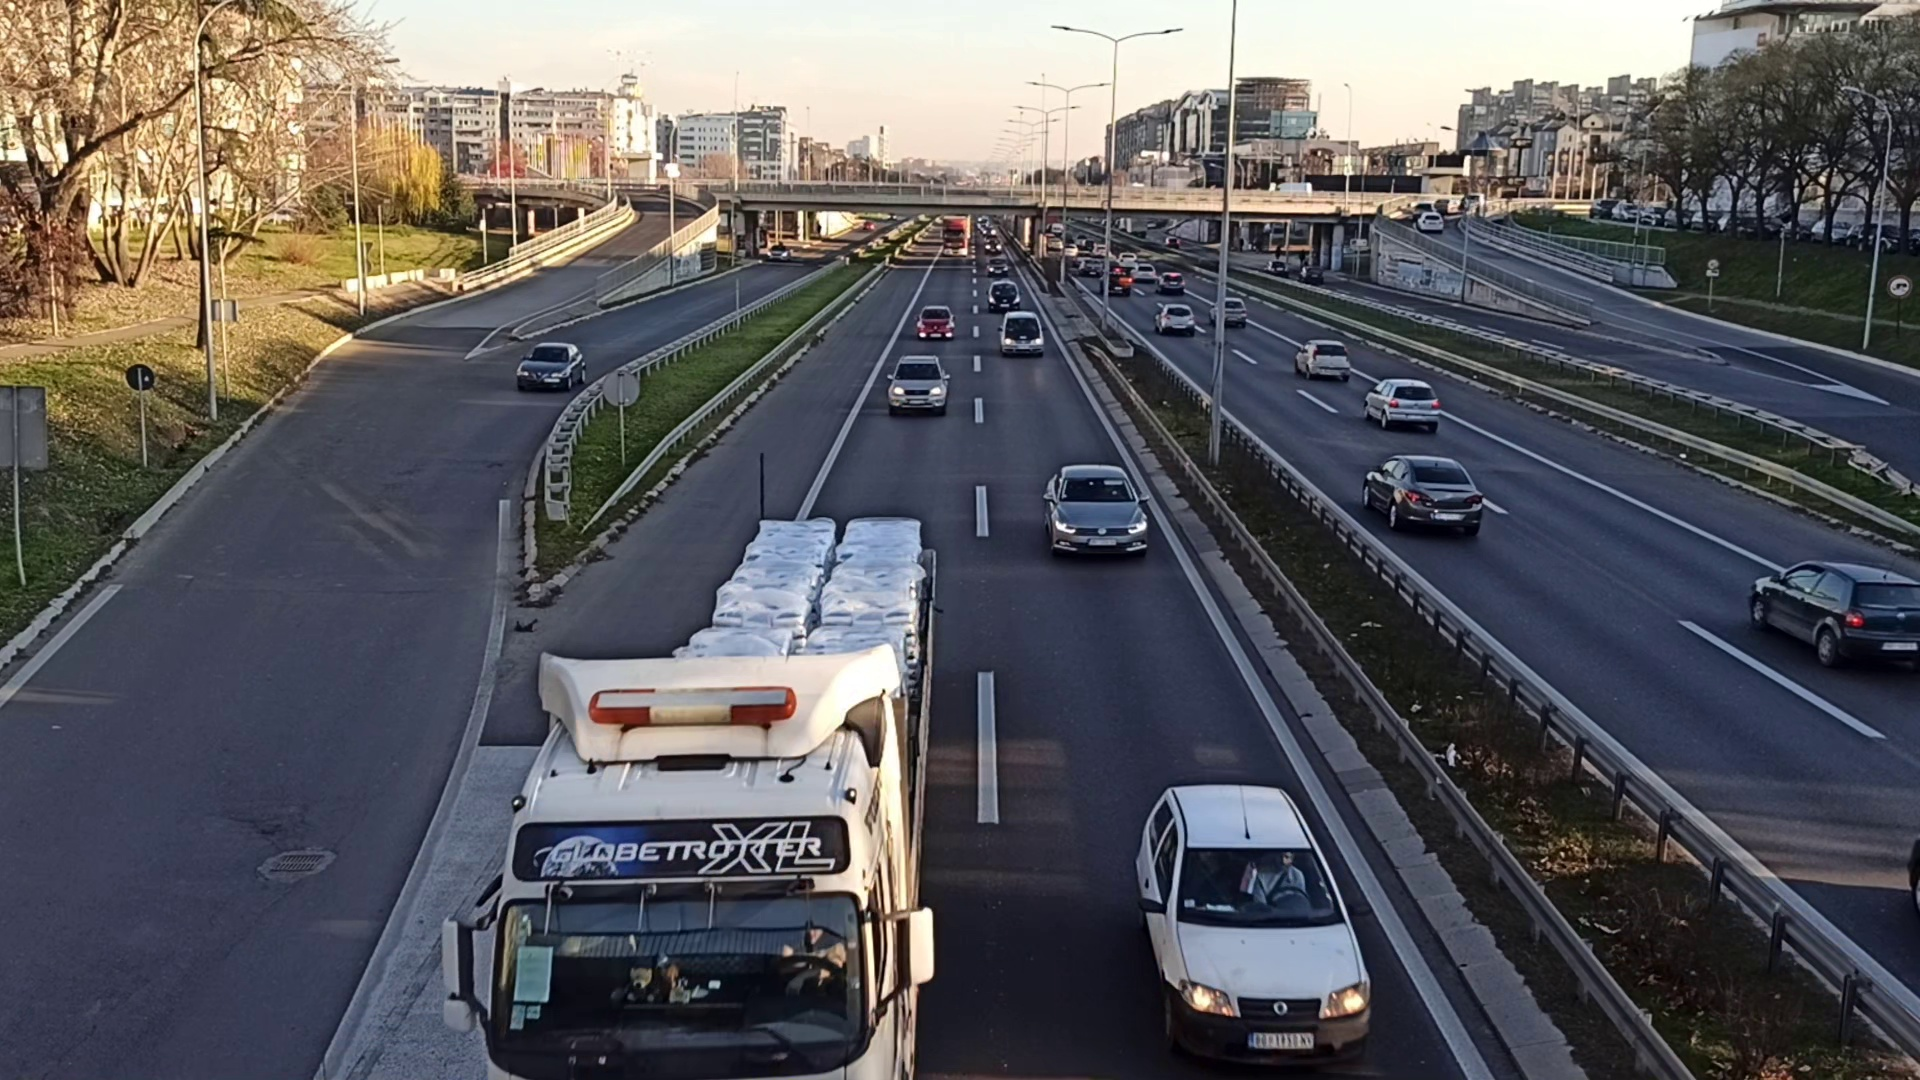car: (1133, 785, 1370, 1073), (1753, 558, 1920, 671), (1361, 454, 1484, 539), (1044, 464, 1149, 562), (1364, 377, 1440, 429), (517, 340, 588, 392), (890, 353, 949, 414), (1294, 338, 1350, 384), (1000, 313, 1044, 355), (915, 302, 953, 342), (1155, 303, 1193, 335), (988, 280, 1021, 310)
